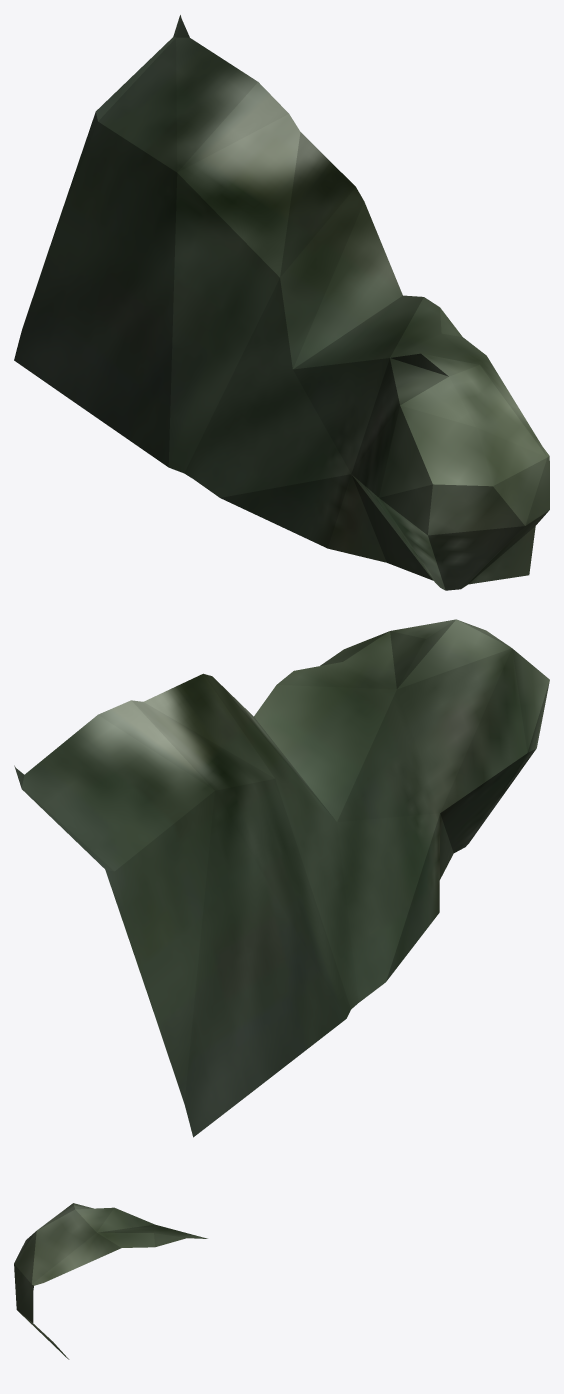
3 views of the same model, one above another, from view 1: azimuth 30°, elevation 25°; view 2: azimuth 150°, elevation 25°; view 3: azimuth 270°, elevation 25° (orthographic). The views are drawn at different scales.
Bounding box in the file's own units: 0.2637 × 0.4628 × 1.05.
Materials: 1 (1 with a texture image).
